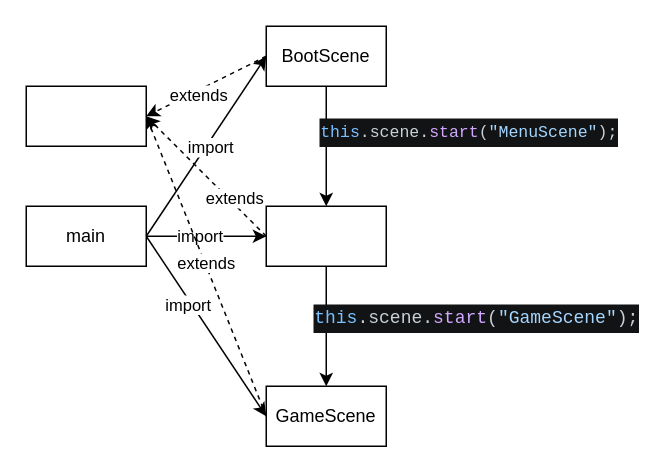
This 668x473 diagram has some shape labels left out. The centre of each missing label's shape, as x and y in pixels:
"MenuScene" belongs at point 325,235.
"Phaser.Scene" belongs at point 85,115.
